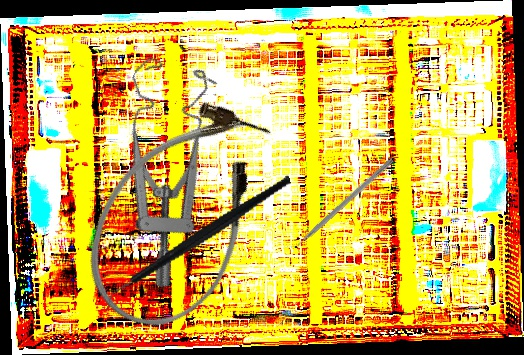Cannula: (59, 77, 299, 352)
Chopper: (84, 173, 311, 315), (282, 152, 395, 255)
Speculum: (56, 44, 258, 291)
